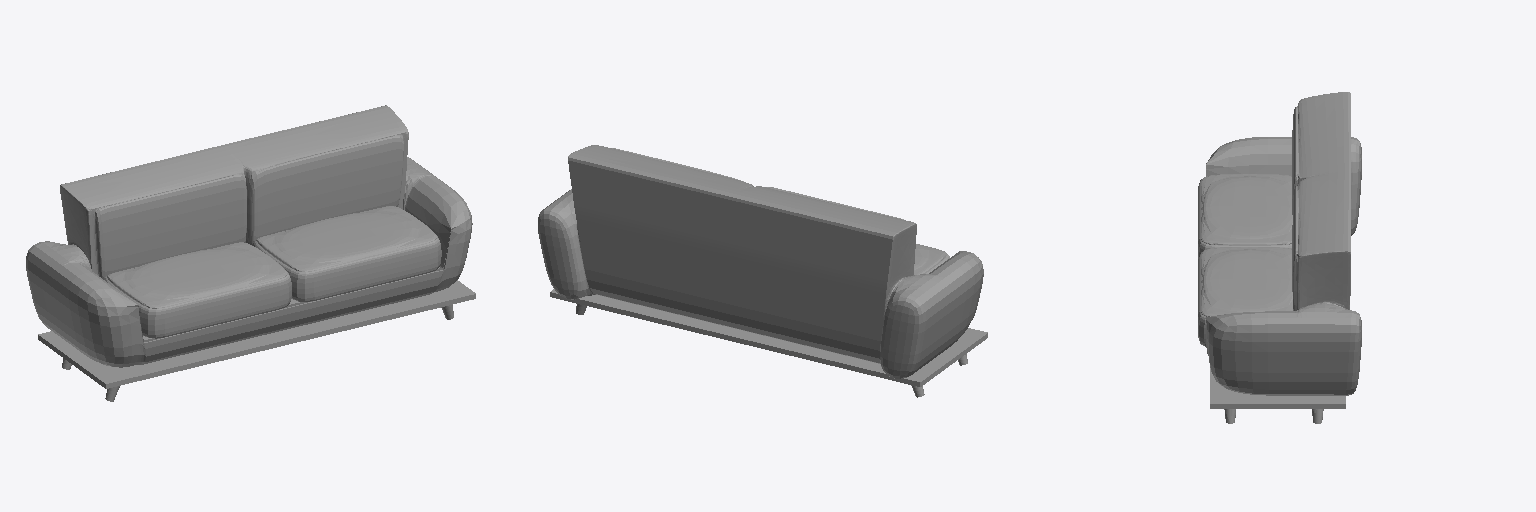
File: couch.obj
3 views of the same model, side by side, from view 1: azimuth 30°, elevation 25°; view 2: azimuth 150°, elevation 25°; view 3: azimuth 270°, elevation 25° (orthographic).
Parts seen in each view (by area): view 1: Cube.001_Cube.003, Cube.003_Cube.006, Cube.002_Cube.005, Cube_Cube.002; view 2: Cube.001_Cube.003, Cube_Cube.002, Cube.002_Cube.005; view 3: Cube.001_Cube.003, Cube.002_Cube.005, Cube.003_Cube.006, Cube_Cube.002.
Boxes of the visible parts, x1=… form: Cube.001_Cube.003: x1=26, y1=105, x2=472, y2=367; Cube.003_Cube.006: x1=252, y1=206, x2=441, y2=301; Cube.002_Cube.005: x1=104, y1=242, x2=291, y2=338; Cube_Cube.002: x1=38, y1=280, x2=475, y2=388; Cube.001_Cube.003: x1=538, y1=145, x2=983, y2=378; Cube_Cube.002: x1=550, y1=289, x2=987, y2=386; Cube.002_Cube.005: x1=914, y1=244, x2=949, y2=274; Cube.001_Cube.003: x1=1206, y1=92, x2=1361, y2=395; Cube.002_Cube.005: x1=1198, y1=174, x2=1292, y2=258; Cube.003_Cube.006: x1=1198, y1=247, x2=1292, y2=346; Cube_Cube.002: x1=1210, y1=368, x2=1345, y2=408.
Size of the model in its own units: 2.14 by 0.9049 by 0.7886.